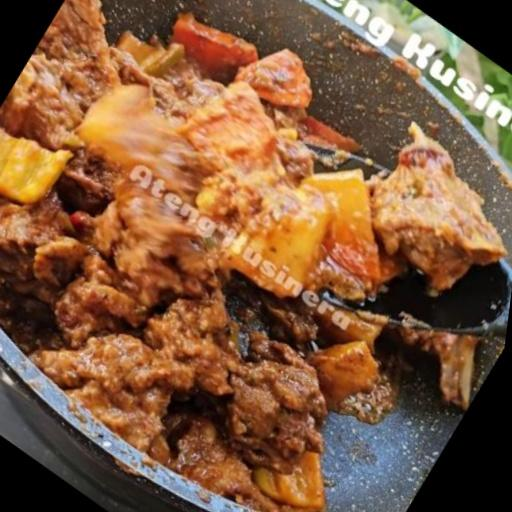pork caldereta: (0, 0, 368, 511)
